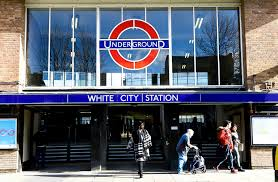London Underground: (100, 18, 171, 72)
